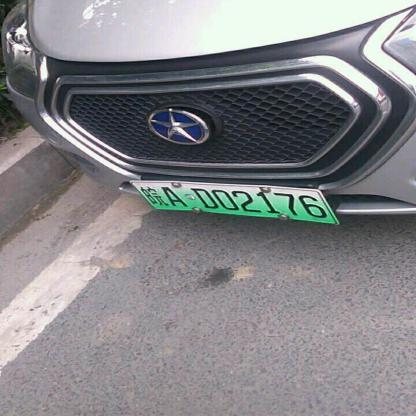lp: (131, 182, 337, 223)
